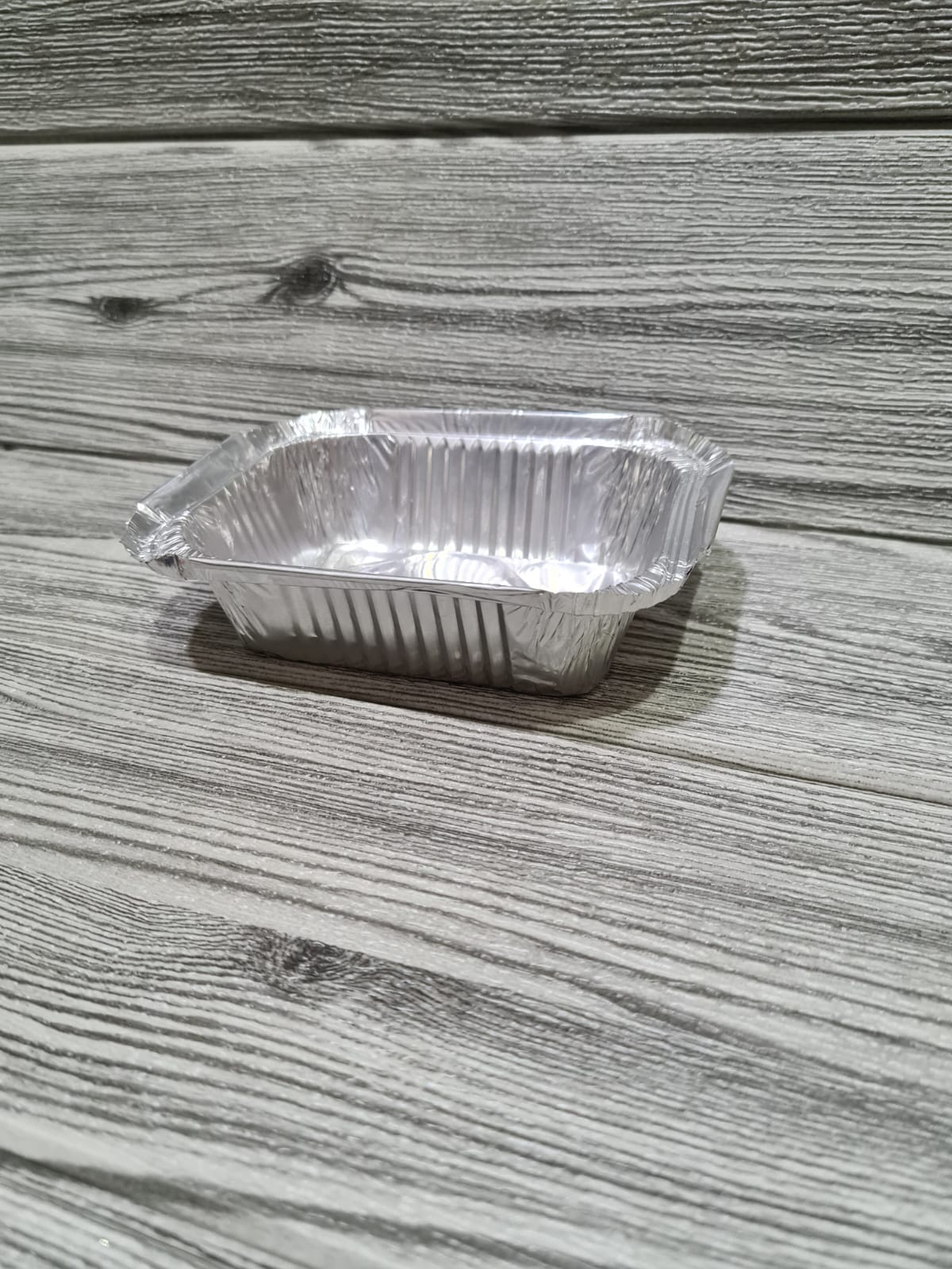Metal: (114, 400, 742, 672)
